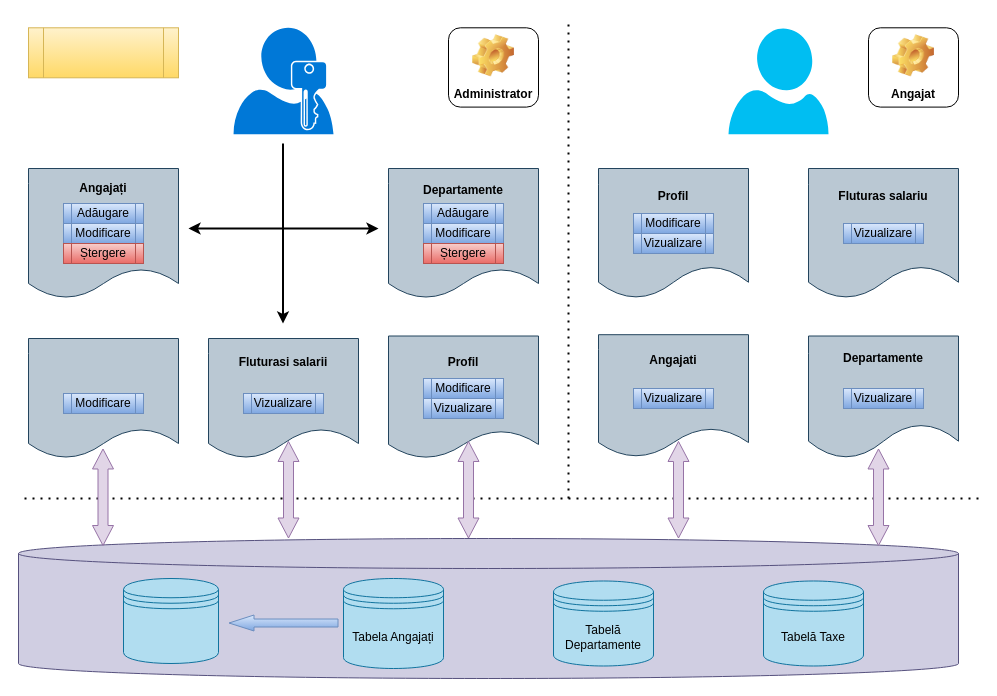
Image size: 997x696. Some labels were removed from this diagram. Here are the shapes that lost their labels. From the top down, the box of each, then its label:
(28, 27, 178, 78): Access în funcție de rolul utilizatorului
(28, 338, 178, 458): Configurare
(122, 578, 218, 664): Tabela Utilizatori
